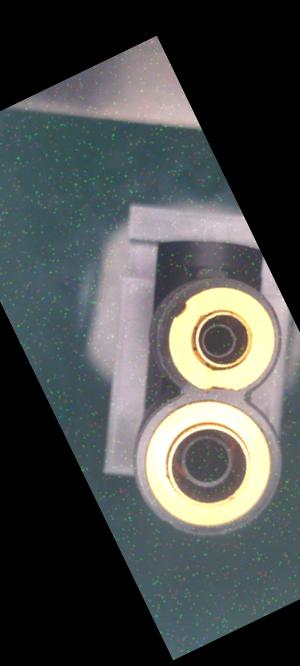bump: (204, 371, 239, 401), (161, 296, 197, 325)
